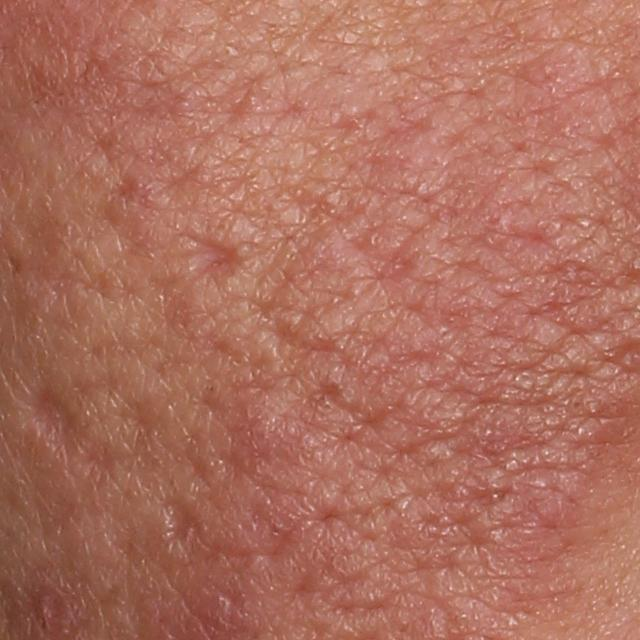atrophic_scar: (19, 377, 89, 468), (180, 233, 246, 291), (160, 495, 206, 557)
